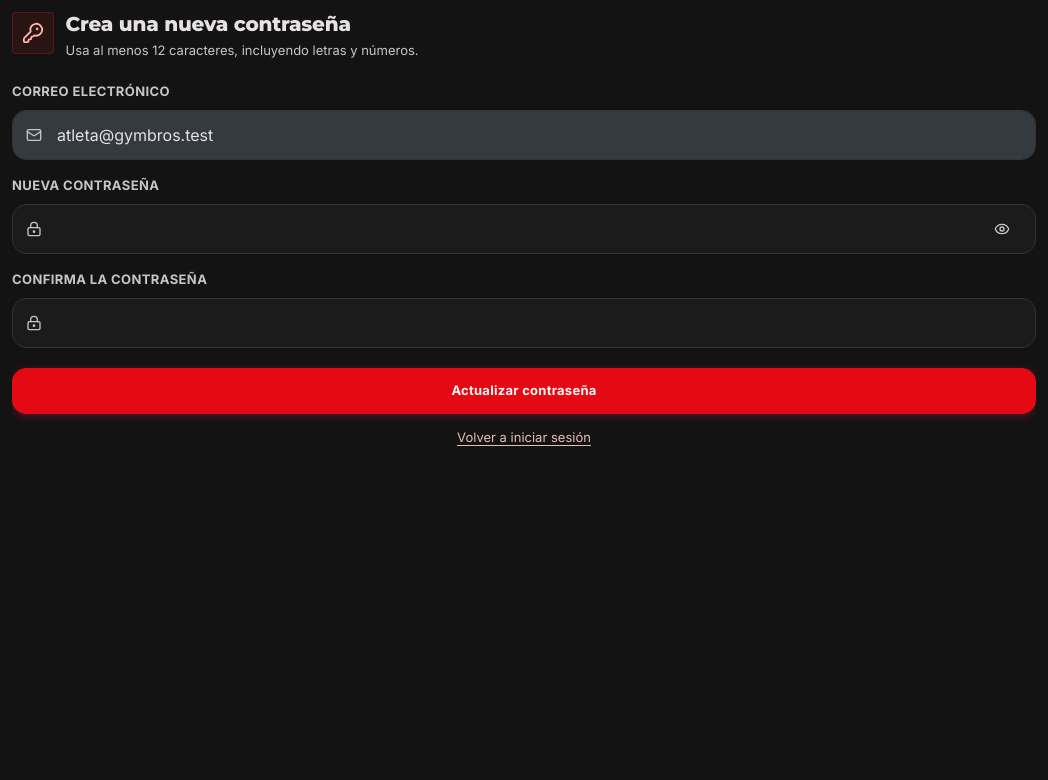
Scenario: ResetPasswordView › muestra el error de token devuelto por Laravel
Type "NuevaClave2026" into the password field with id "restablecer-password". click: (524, 229)
box: 12,204 -> 1036,254
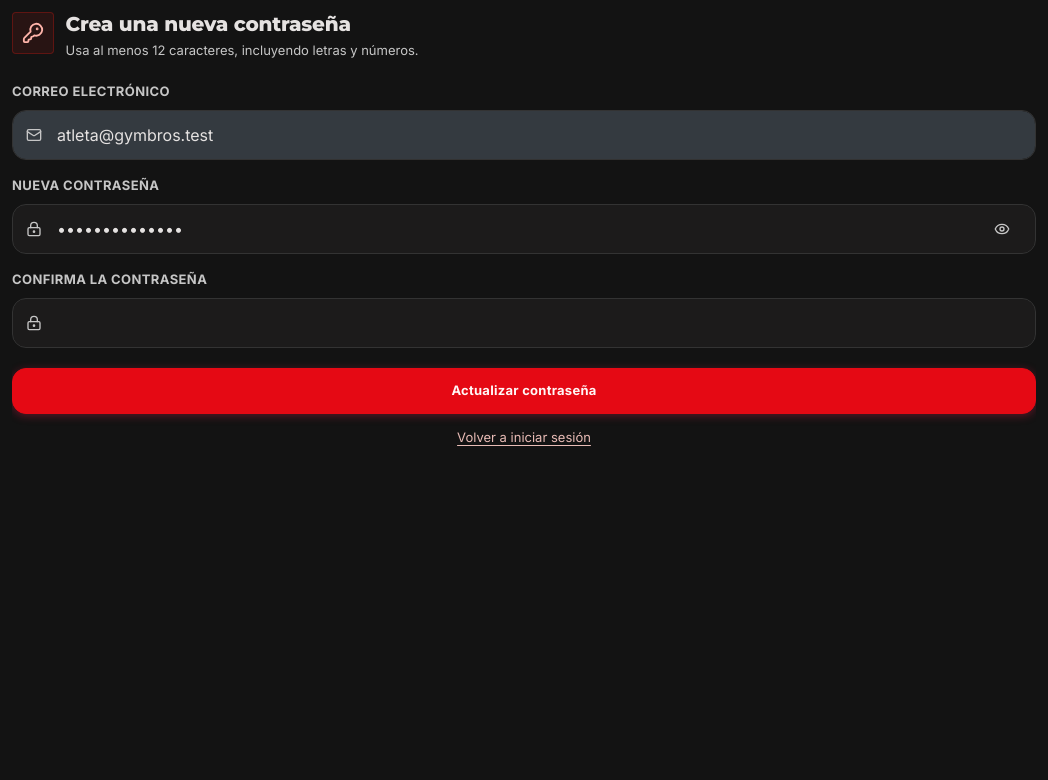
Type "NuevaClave2026" into the password field with id "restablecer-confirmacion". click: (524, 323)
box: 12,298 -> 1036,348
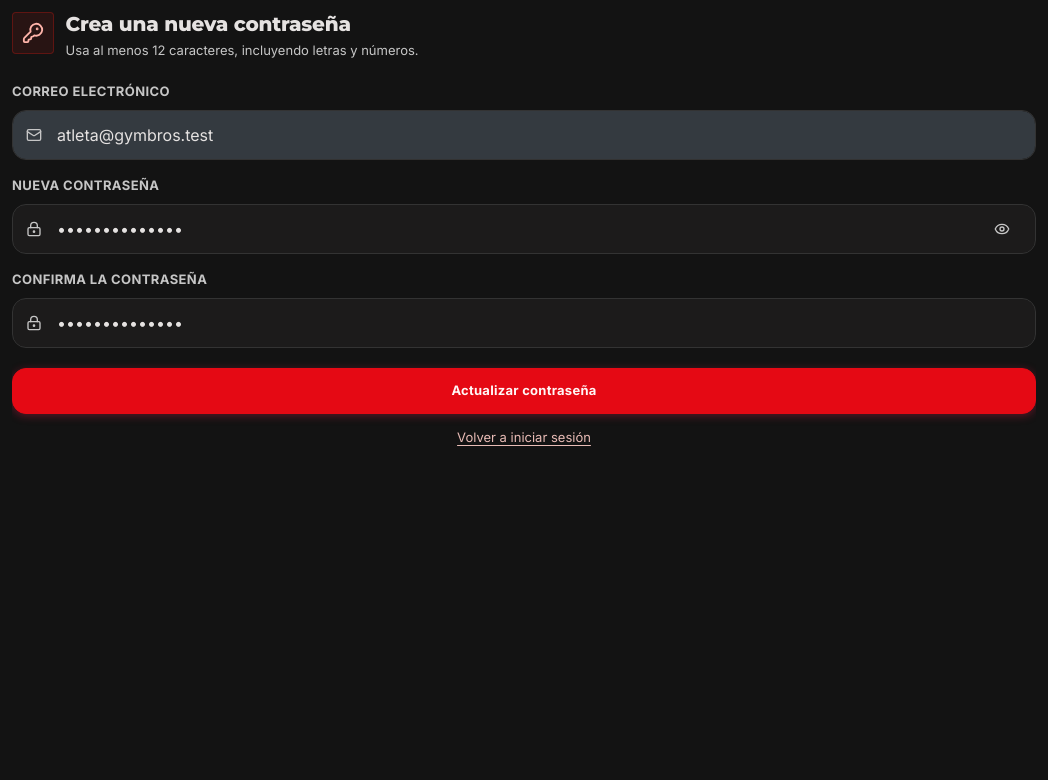
Submit the form, box 12,80 -> 1036,414
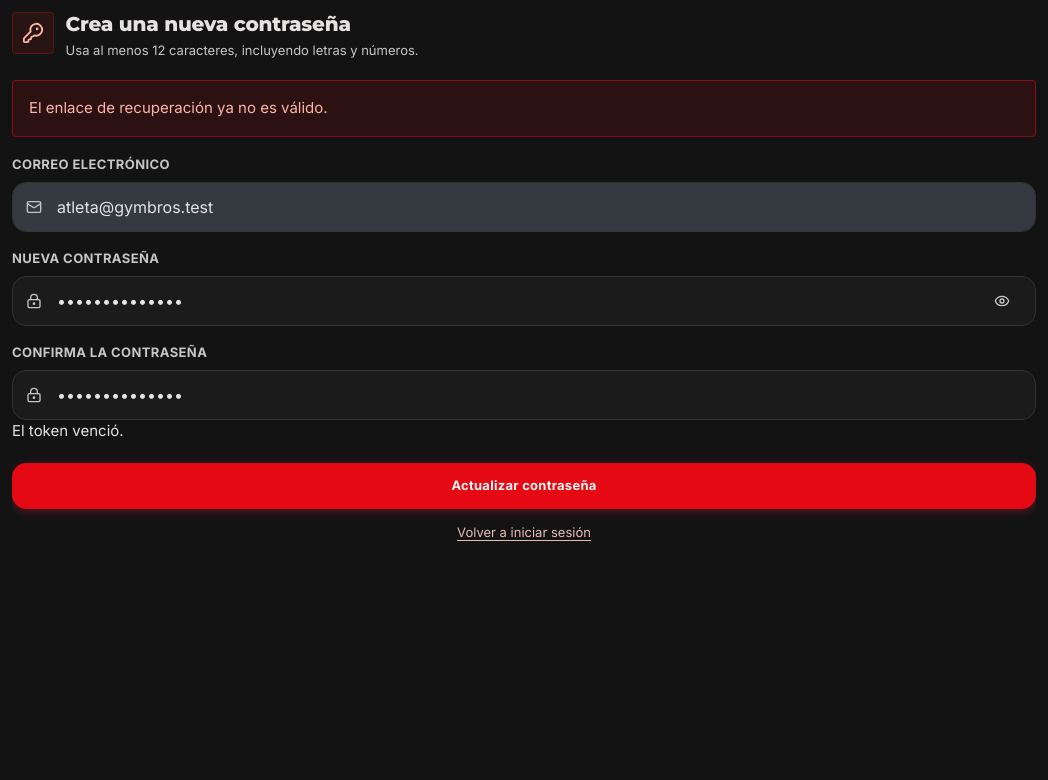
Expected: the text "El token venció." is shown, 12,421 -> 124,440
